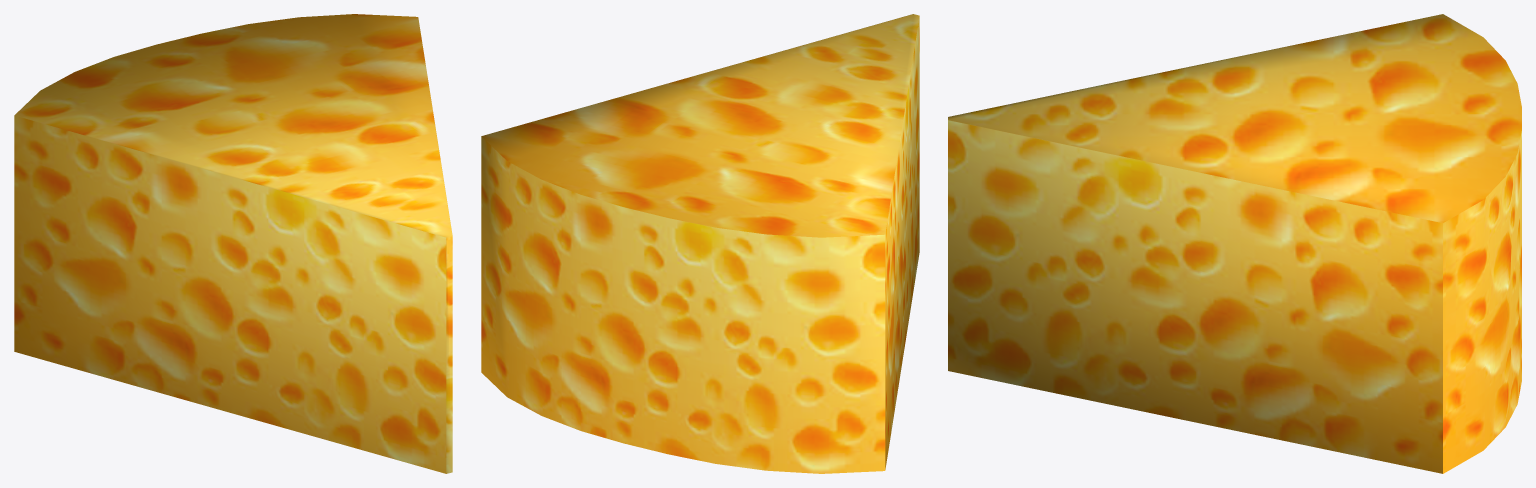
The model's file is Cheese.fbx.
3 renders of one model, left to right at view 1: azimuth 30°, elevation 25°; view 2: azimuth 150°, elevation 25°; view 3: azimuth 270°, elevation 25°, orthographic. The views are drawn at different scales.
Parts seen in each view (by area): view 1: Plane.002; view 2: Plane.002; view 3: Plane.002.
Part boxes in pixels (left/top/right/bottom): Plane.002: left=14, top=14, right=452, bottom=473; Plane.002: left=481, top=14, right=919, bottom=473; Plane.002: left=948, top=14, right=1521, bottom=473.
Bounding box in the file's own units: 200 × 112 × 232.
